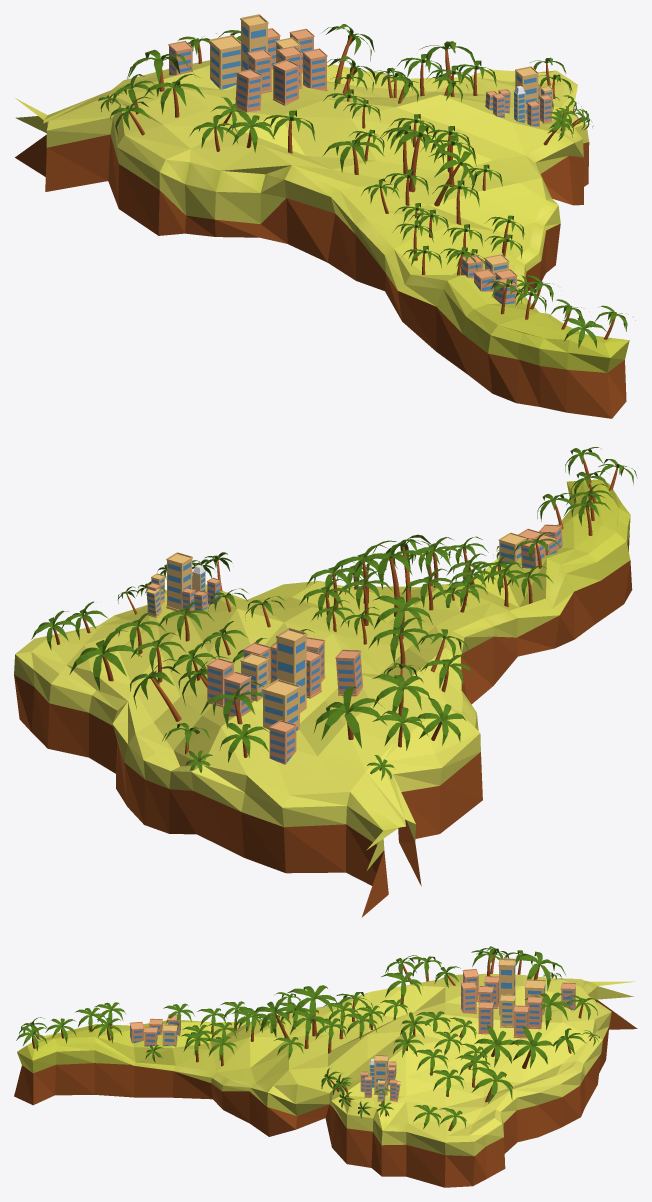
Rendered from southAmerica.glb.
3 renders of one model, top to bottom at view 1: azimuth 30°, elevation 25°; view 2: azimuth 150°, elevation 25°; view 3: azimuth 270°, elevation 25°, orthographic. The views are drawn at different scales.
Parts seen in each view (by area): view 1: southAmerica; view 2: southAmerica; view 3: southAmerica.
Part boxes in pixels (left/top/right/bottom): southAmerica: left=15, top=14, right=635, bottom=418; southAmerica: left=14, top=447, right=637, bottom=917; southAmerica: left=14, top=946, right=637, bottom=1187.
Size of the model in its own units: 2.77 by 0.9789 by 4.46.
Materials: 3 (3 with a texture image).
